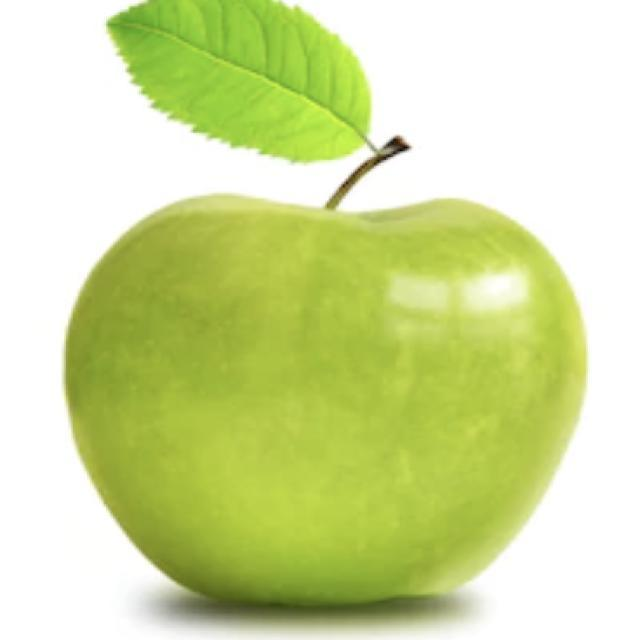Apple: (62, 134, 588, 608)
